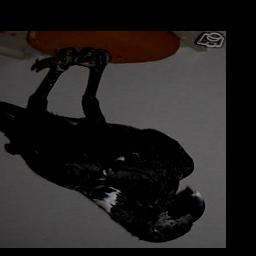Crow: (0, 47, 209, 244)
